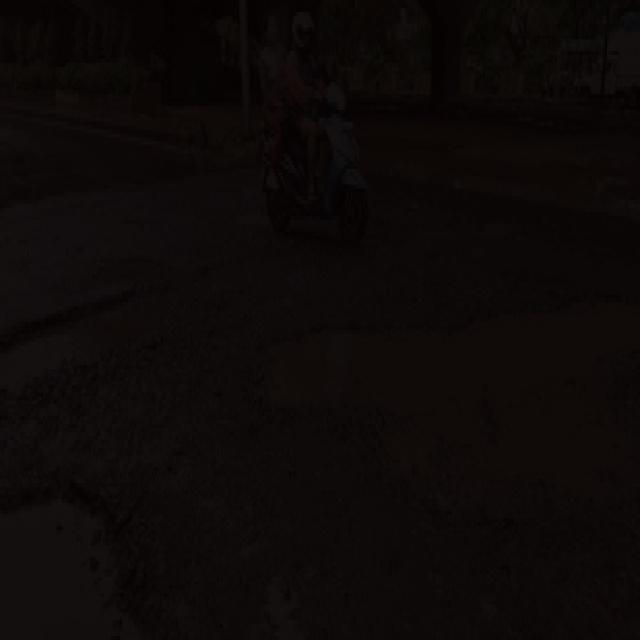Pothole: (252, 291, 640, 521), (0, 440, 164, 640), (0, 266, 176, 416)
